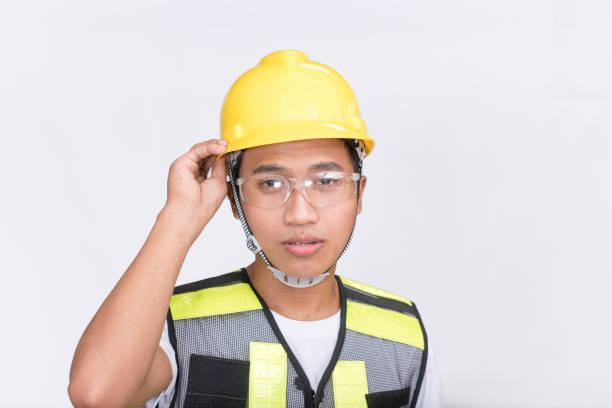goggle: (226, 168, 369, 207)
helmet: (199, 44, 382, 165)
vest: (167, 265, 438, 408)
